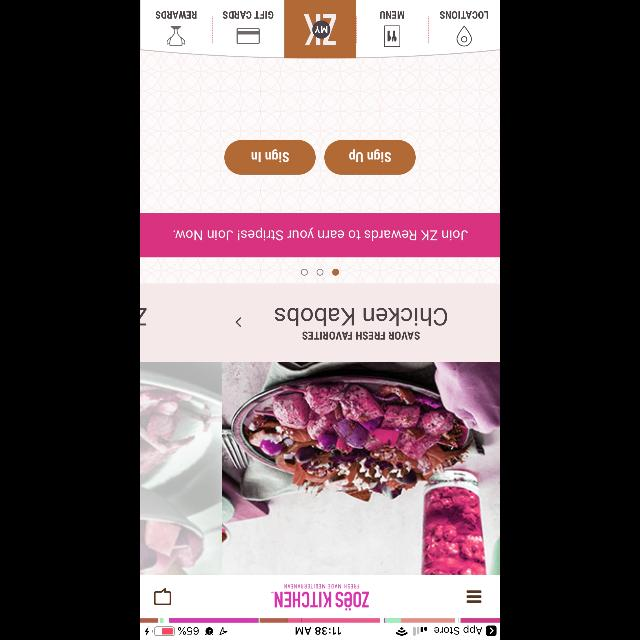icon: (237, 28, 260, 44), (456, 26, 472, 46), (154, 588, 172, 604), (466, 590, 482, 602), (235, 317, 241, 327)
image: (140, 362, 500, 574), (271, 584, 369, 610), (304, 14, 336, 46), (167, 26, 186, 46), (384, 25, 400, 47)
pageindicator: (301, 268, 339, 276)
text: (173, 228, 467, 240), (275, 308, 447, 326), (302, 332, 420, 340), (222, 11, 274, 19), (440, 11, 488, 19), (156, 12, 197, 18), (380, 11, 404, 19)
textbutton: (324, 140, 416, 174), (224, 140, 316, 174)
uppertaskbar: (140, 624, 500, 640)
